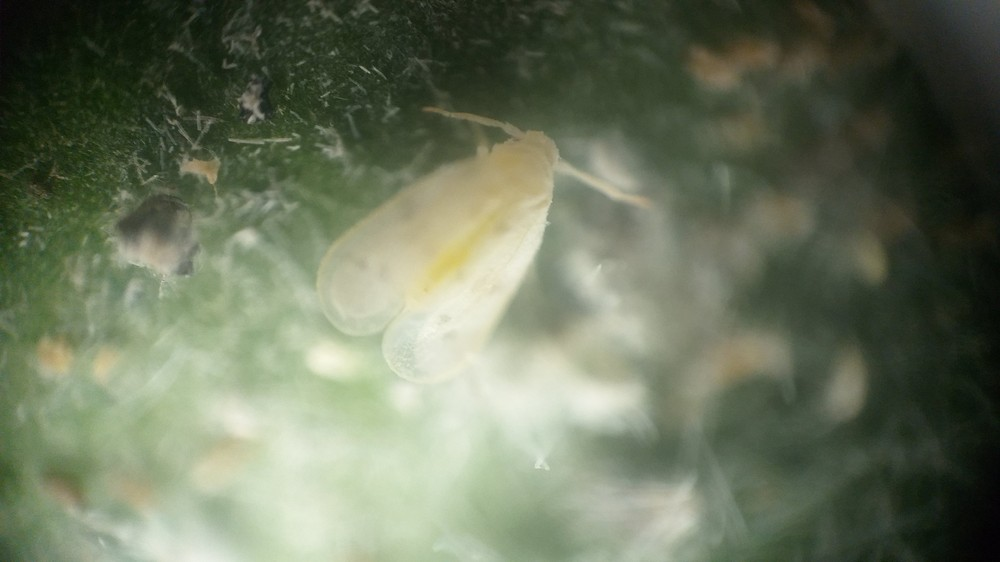Mosca Blanca: (297, 90, 680, 425)
